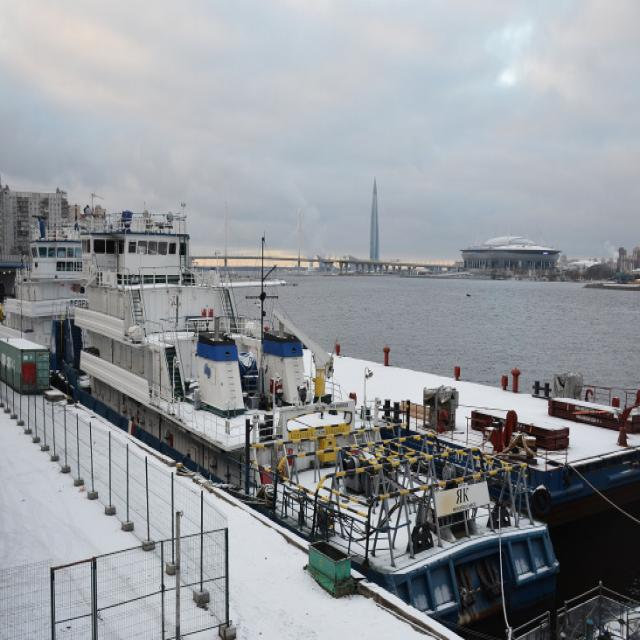tugboat: (244, 384, 570, 640)
